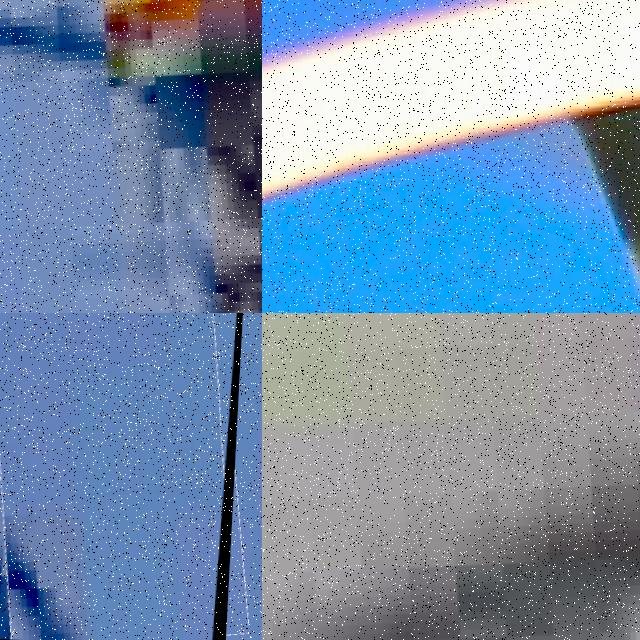0: (262, 313, 640, 640), (0, 313, 259, 640), (0, 0, 262, 313)
drone: (262, 0, 640, 313)
